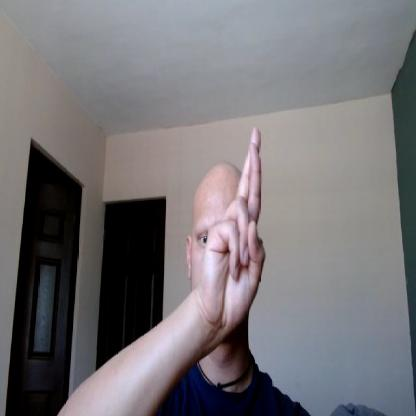R: (203, 123, 267, 341)
